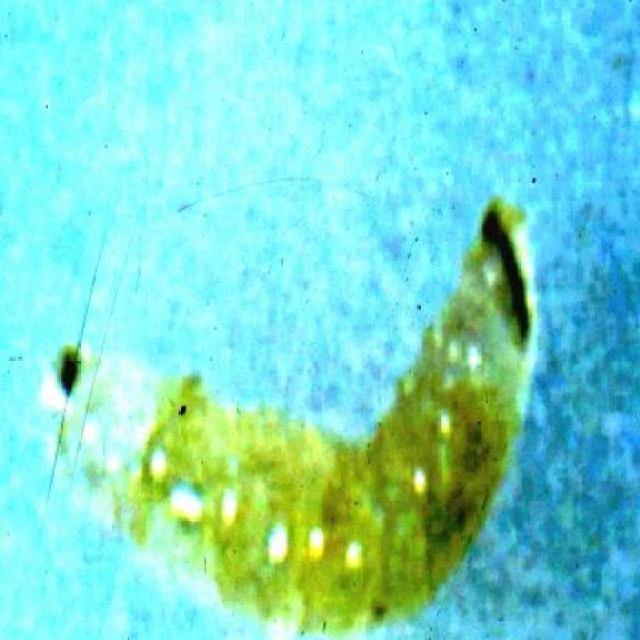whorl-maggot: (44, 194, 541, 627)
